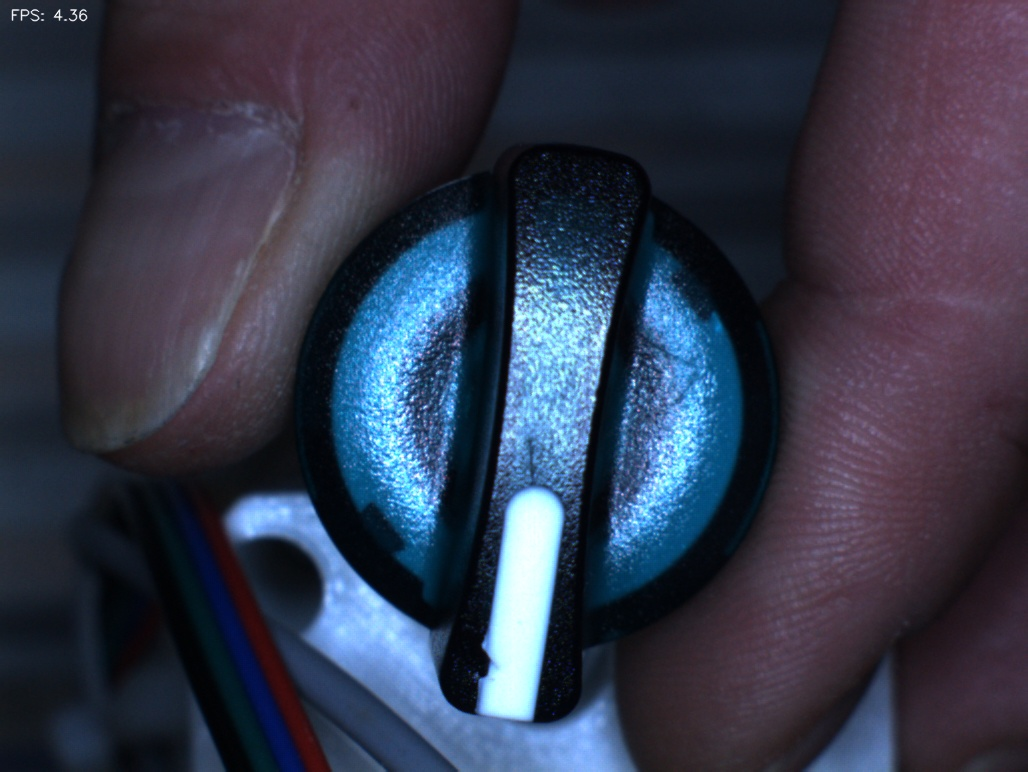Choc: (456, 632, 523, 699)
